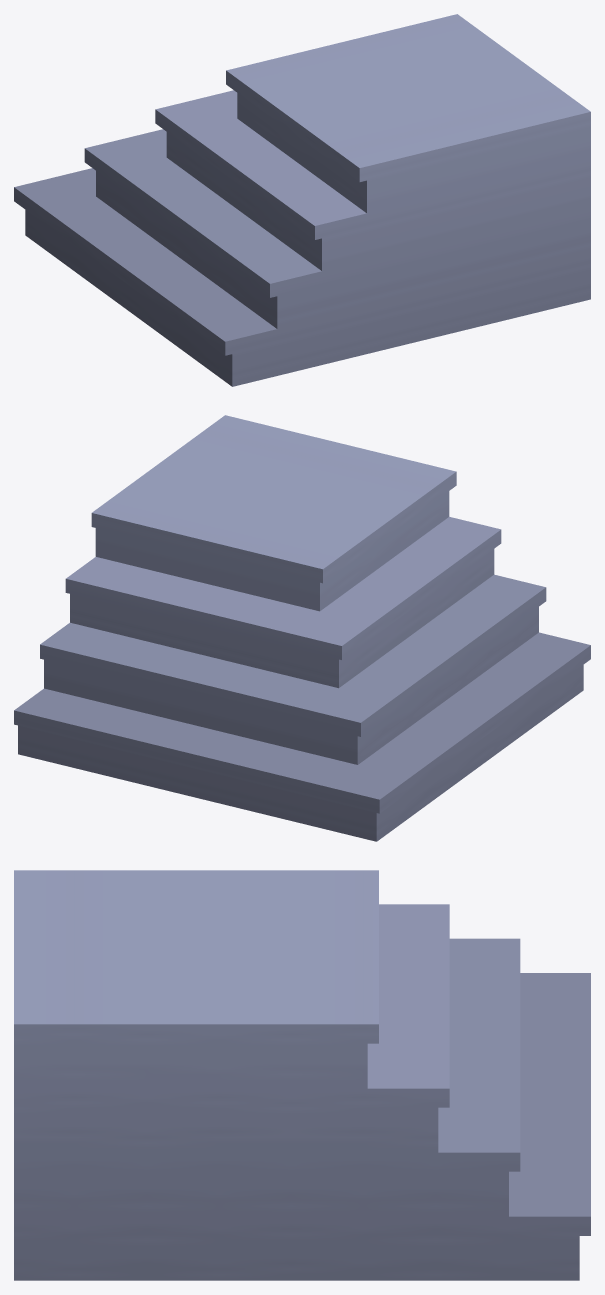
File: stairsFullCornerOuter.fbx
The picture shows the model from 3 angles, top to bottom: view 1: azimuth 30°, elevation 25°; view 2: azimuth 150°, elevation 25°; view 3: azimuth 270°, elevation 25°; orthographic projection. The views are drawn at different scales.
Parts seen in each view (by area): view 1: stairsFullCornerOuter; view 2: stairsFullCornerOuter; view 3: stairsFullCornerOuter.
Boxes of the visible parts, box(x1,y1,x2,y2) form: stairsFullCornerOuter: box(14, 14, 590, 386); stairsFullCornerOuter: box(14, 415, 590, 841); stairsFullCornerOuter: box(14, 870, 590, 1280).
Size of the model in its own units: 1.02 by 1.02 by 0.5.
